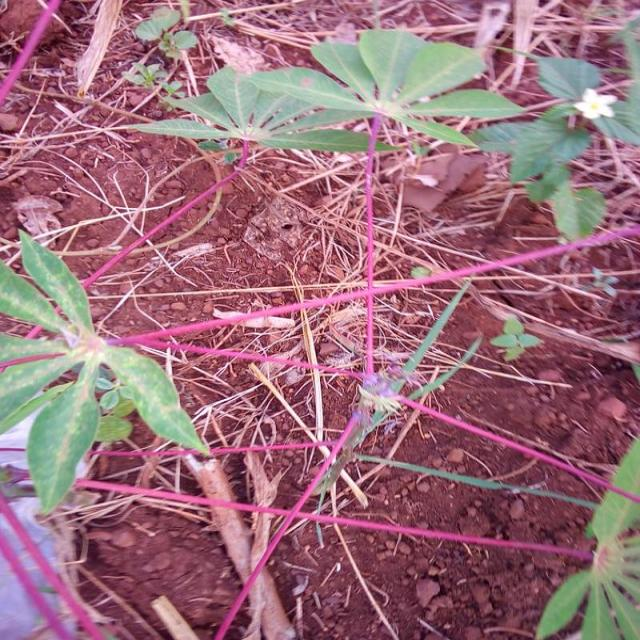cassava leaf: (2, 226, 211, 515), (26, 370, 101, 515)
